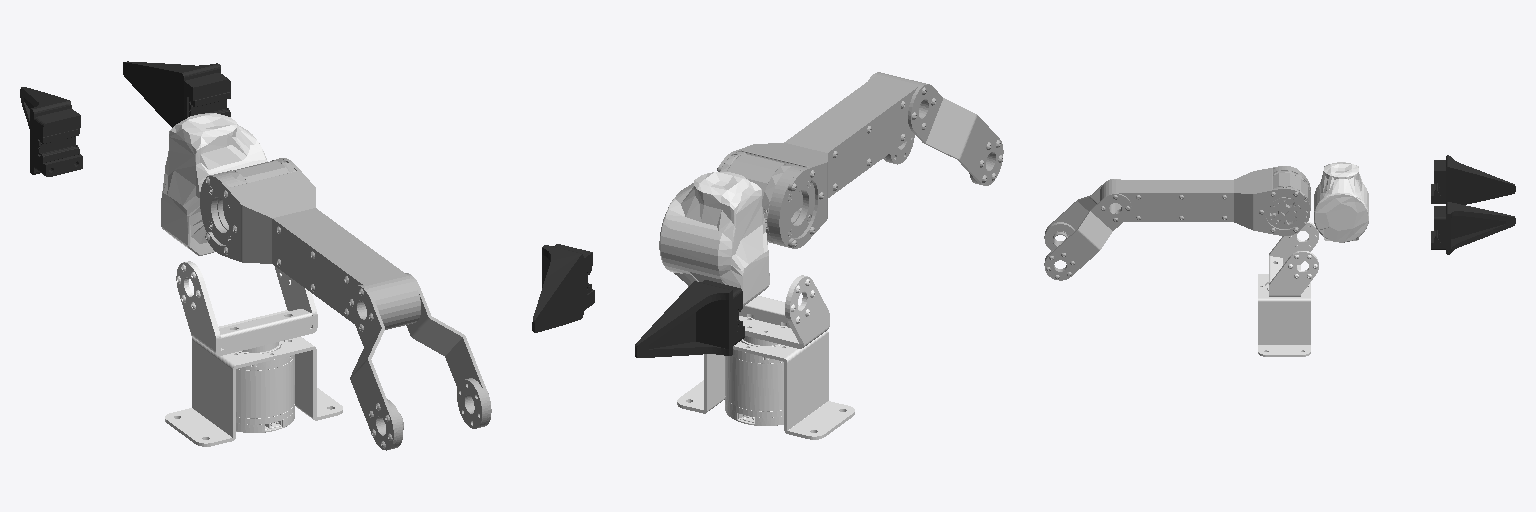
robot.urdf — TRLC-DK1-Follower:
<?xml version="1.0" encoding="utf-8"?>
<robot
  name="TRLC-DK1-Follower">
  <link
    name="base_link">
    <inertial>
      <origin
        xyz="0 0 0"
        rpy="0 0 0" />
      <mass
        value="0.02782" />
    </inertial>
    <visual>
      <origin
        xyz="0 0 0"
        rpy="0 0 0" />
      <geometry>
        <mesh
          filename="meshes/base_link.dae" />
      </geometry>
      <material
        name="">
        <color
          rgba="0.95 0.95 0.95 1" />
      </material>
    </visual>
    <collision>
      <origin
        xyz="0 0 0"
        rpy="0 0 0" />
      <geometry>
        <mesh
          filename="meshes/base_link.stl" />
      </geometry>
    </collision>
  </link>
  <link
    name="link1-2">
    <inertial>
      <origin
        xyz="0 0 0"
        rpy="0 0 0" />
      <mass
        value="0.024532" />
    </inertial>
    <visual>
      <origin
        xyz="0 0 0"
        rpy="0 0 0" />
      <geometry>
        <mesh
          filename="meshes/link1-2.dae" />
      </geometry>
      <material
        name="">
        <color
          rgba="0.95 0.95 0.95 1" />
      </material>
    </visual>
    <collision>
      <origin
        xyz="0 0 0"
        rpy="0 0 0" />
      <geometry>
        <mesh
          filename="meshes/link1-2.stl" />
      </geometry>
    </collision>
  </link>
  <joint
    name="joint1"
    type="revolute">
    <origin
      xyz="0 0 0.0615"
      rpy="0 0 0" />
    <parent
      link="base_link" />
    <child
      link="link1-2" />
    <axis
      xyz="0 0 1" />
    <limit
      lower="-2.0943951023931953"
      upper="2.0943951023931953"
      effort="100"
      velocity="3" />
  </joint>
  <link
    name="Link1">
    <inertial>
      <origin
        xyz="0 0 0"
        rpy="0 0 0" />
      <mass
        value="0.537601776973517" />
    </inertial>
    <visual>
      <origin
        xyz="0 0 0"
        rpy="0 0 0" />
      <geometry>
        <mesh
          filename="meshes/link1.dae" />
      </geometry>
      <material
        name="">
        <color
          rgba="0.75 0.75 0.75 1" />
      </material>
    </visual>
    <collision>
      <origin
        xyz="0 0 0"
        rpy="0 0 0" />n
      <geometry>
        <mesh
          filename="meshes/Link1.stl" />
      </geometry>
    </collision>
  </link>
  <joint
    name="joint2"
    type="revolute">
    <origin
      xyz="0 0.02 0.0385"
      rpy="0 0 0" />
    <parent
      link="link1-2" />
    <child
      link="Link1" />
    <axis
      xyz="1 0 0" />
    <limit
      lower="-3.141592653589793"
      upper="0"
      effort="100"
      velocity="3" />
  </joint>
  <link
    name="Link_2">
    <inertial>
      <origin
        xyz="0 0 0"
        rpy="0 0 0" />
      <mass
        value="0.299922094541001" />
    </inertial>
    <visual>
      <origin
        xyz="0 0 0"
        rpy="0 0 0" />
      <geometry>
        <mesh
          filename="meshes/link2.dae" />
      </geometry>
      <material
        name="">
        <color
          rgba="0.75 0.75 0.75 1" />
      </material>
    </visual>
    <collision>
      <origin
        xyz="0 0 0"
        rpy="0 0 0" />
      <geometry>
        <mesh
          filename="meshes/Link_2.stl" />
      </geometry>
    </collision>
  </link>
  <joint
    name="joint3"
    type="revolute">
    <origin
      xyz="0 -0.264 0"
      rpy="0 0 0" />
    <parent
      link="Link1" />
    <child
      link="Link_2" />
    <axis
      xyz="1 0 0" />
    <limit
      lower="0"
      upper="4.71238898038469"
      effort="100"
      velocity="3" />
  </joint>
  <link
    name="link4-5">
    <inertial>
      <origin
        xyz="0 0 0"
        rpy="0 0 0" />
      <mass
        value="0.0142938416889126" />
    </inertial>
    <visual>
      <origin
        xyz="0 0 0"
        rpy="0 0 0" />
      <geometry>
        <mesh
          filename="meshes/link4-5.dae" />
      </geometry>
      <material name="">
        <color
          rgba="0.95 0.95 0.95 1" />
      </material>
    </visual>
    <collision>
      <origin
        xyz="0 0 0"
        rpy="0 0 0" />
      <geometry>
        <mesh
          filename="meshes/link4-5.stl" />
      </geometry>
    </collision>
  </link>
  <joint
    name="joint4"
    type="revolute">
    <origin
      xyz="0 0.244004 0.059971"
      rpy="0 0 0" />
    <parent
      link="Link_2" />
    <child
      link="link4-5" />
    <axis
      xyz="1 0 0" />
    <limit
      lower="-1.5707963267948966"
      upper="1.5707963267948966"
      effort="20"
      velocity="3" />
  </joint>
  <link
    name="link5-6">
    <inertial>
      <origin
        xyz="0 0 0"
        rpy="0 0 0" />
      <mass
        value="0.11909711022403" />
    </inertial>
    <visual>
      <origin
        xyz="0 0 0"
        rpy="0 0 0" />
      <geometry>
        <mesh
          filename="meshes/link5-6.stl" />
      </geometry>
      <material name="">
        <color
          rgba="0.95 0.95 0.95 1" />
      </material>
    </visual>
    <collision>
      <origin
        xyz="0 0 0"
        rpy="0 0 0" />
      <geometry>
        <mesh
          filename="meshes/link5-6.stl" />
      </geometry>
    </collision>
  </link>
  <joint
    name="joint5"
    type="revolute">
    <origin
      xyz="0 0.061993 0.0375"
      rpy="0 0 0" />
    <parent
      link="link4-5" />
    <child
      link="link5-6" />
    <axis
      xyz="0 0 -1" />
    <limit
      lower="-1.57"
      upper="1.5707963267948966"
      effort="20"
      velocity="3" />
  </joint>
  <link
    name="Link6-7">
    <inertial>
      <origin
        xyz="0 0 0"
        rpy="0 0 0" />
      <mass
        value="0.289722572316062" />
    </inertial>
    <visual>
      <origin
        xyz="0 0 0"
        rpy="0 0 0" />
      <geometry>
        <mesh
          filename="meshes/Link6-7.stl" />
      </geometry>
      <material name="">
        <color
          rgba="0.25 0.25 0.25 1" />
      </material>
    </visual>
    <collision>
      <origin
        xyz="0 0 0"
        rpy="0 0 0" />
      <geometry>
        <mesh
          filename="meshes/Link6-7.stl" />
      </geometry>
    </collision>
  </link>
  <joint
    name="joint6"
    type="revolute">
    <origin
      xyz="0.0 0.032 -0.0425"
      rpy="0 0 0" />
    <parent
      link="link5-6" />
    <child
      link="Link6-7" />
    <axis
      xyz="0 1 0" />
    <limit
      lower="-3.141592653589793"
      upper="3.141592653589793"
      effort="20"
      velocity="3" />
  </joint>
  <link
    name="finger_left">
    <inertial>
      <origin
        xyz="0 0 0"
        rpy="0 0 0" />
      <mass
        value="0.0745959905268717" />
    </inertial>
    <visual>
      <origin
        xyz="0 0 0"
        rpy="0 0 0" />
      <geometry>
        <mesh
          filename="meshes/finger_left.stl" />
      </geometry>
      <material name="">
        <color
          rgba="0.25 0.25 0.25 1" />
      </material>
    </visual>
    <collision>
      <origin
        xyz="0 0 0"
        rpy="0 0 0" />
      <geometry>
        <mesh
          filename="meshes/finger_left.stl" />
      </geometry>
    </collision>
  </link>
  <joint
    name="gripper_left"
    type="prismatic">
    <origin
      xyz="-0.04 0 0"
      rpy="0 0 0" />
    <parent
      link="Link6-7" />
    <child
      link="finger_left" />
    <axis xyz="-1 0 0" />
    <limit
      lower="-0.045"
      upper="0.0"
      effort="20"
      velocity="0.2" />
  </joint>
  <link
    name="finger_right">
    <inertial>
      <origin
        xyz="0 0 0"
        rpy="0 0 0" />
      <mass value="0.0745959905268717" />
    </inertial>
    <visual>
      <origin
        xyz="0 0 0"
        rpy="0 0 0" />
      <geometry>
        <mesh
          filename="meshes/finger_right.stl" />
      </geometry>
      <material name="">
        <color
          rgba="0.25 0.25 0.25 1" />
      </material>
    </visual>
    <collision>
      <origin
        xyz="0 0 0"
        rpy="0 0 0" />
      <geometry>
        <mesh
          filename="meshes/finger_right.stl" />
      </geometry>
    </collision>
  </link>
  <joint
    name="gripper_right"
    type="prismatic">
    <origin
      xyz="0.04 0 0"
      rpy="0 0 0" />
    <parent
      link="Link6-7" />
    <child
      link="finger_right" />
    <axis
      xyz="1 0 0" />
    <limit
      lower="-0.045"
      upper="0.0"
      effort="20"
      velocity="0.2" />
    <mimic joint="gripper_left" multiplier="1" offset="0" />
  </joint>
</robot>

--- What the picture shows (computed from the rendered views, not written in the file) ---
The picture shows the robot from 3 angles, left to right: view 1: azimuth 30°, elevation 25°; view 2: azimuth 150°, elevation 25°; view 3: azimuth 270°, elevation 25°; orthographic projection.
Model TRLC-DK1-Follower with 9 links and 8 joints (6 revolute, 2 prismatic), rooted at base_link, posed every joint at zero.
Visible links, largest first — view 1: Link_2, base_link, link5-6, link1-2, finger_right, finger_left; view 2: Link_2, base_link, link5-6, finger_left, link1-2, finger_right; view 3: Link_2, link5-6, base_link, finger_right, finger_left, link1-2.
Link boxes in pixels (x1=…): Link_2: x1=200, y1=158, x2=491, y2=450; base_link: x1=165, y1=337, x2=342, y2=446; link5-6: x1=161, y1=113, x2=267, y2=255; link1-2: x1=176, y1=261, x2=317, y2=355; finger_right: x1=123, y1=61, x2=230, y2=127; finger_left: x1=20, y1=87, x2=82, y2=176; Link_2: x1=717, y1=72, x2=1003, y2=248; base_link: x1=677, y1=330, x2=854, y2=439; link5-6: x1=659, y1=172, x2=769, y2=305; finger_left: x1=635, y1=280, x2=744, y2=357; link1-2: x1=688, y1=275, x2=829, y2=348; finger_right: x1=532, y1=244, x2=594, y2=332; Link_2: x1=1044, y1=166, x2=1310, y2=280; link5-6: x1=1314, y1=162, x2=1368, y2=242; base_link: x1=1258, y1=274, x2=1310, y2=356; finger_right: x1=1431, y1=202, x2=1515, y2=254; finger_left: x1=1431, y1=155, x2=1515, y2=204; link1-2: x1=1269, y1=221, x2=1318, y2=296.
Bounding box of the posed robot: 0.15 × 0.513 × 0.1995 m (x, y, z).
Meshes: 9 distinct files referenced, 6 mesh visuals loaded (3 binary STL, 3 Collada DAE); not drawn: 3 (reference not matched to a file when rendering).